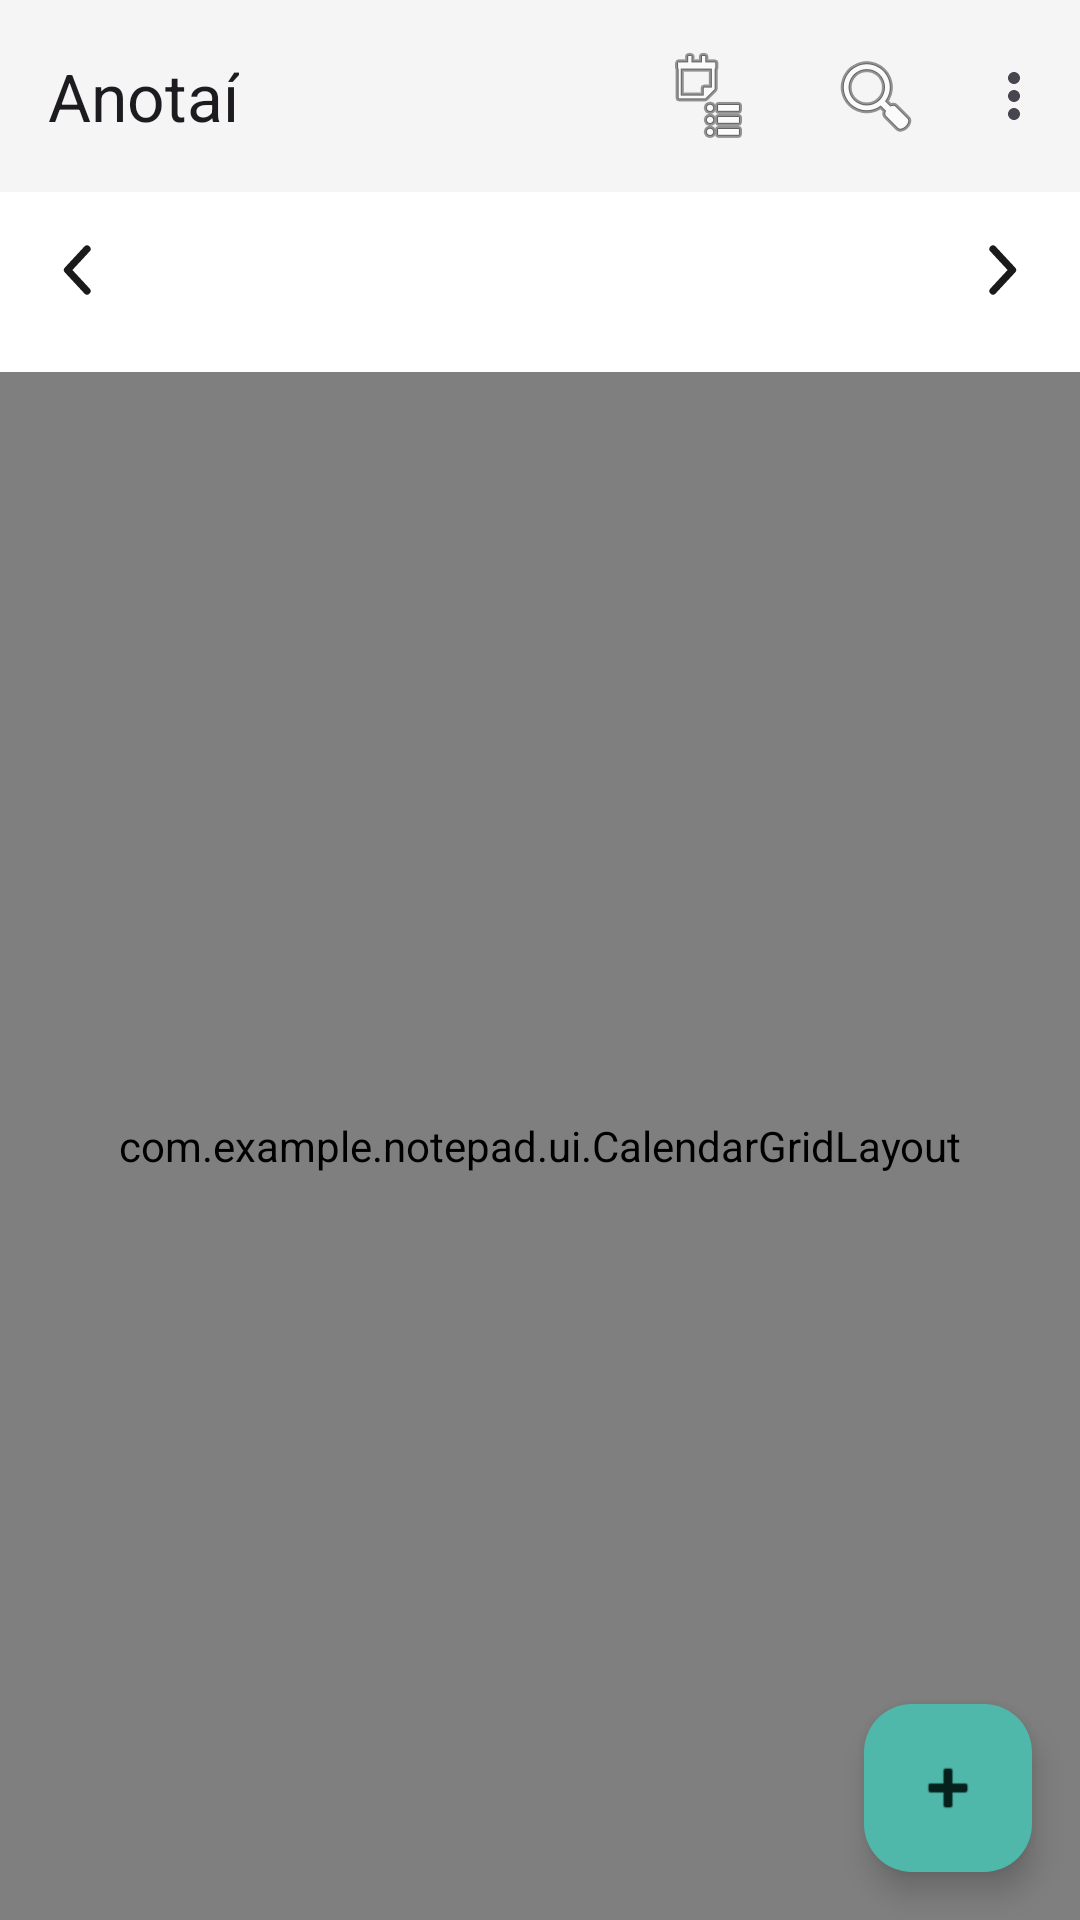

Icons on this 1080 x 1920 Android screen, each with its box as [x1,y1,x2,y2]:
Add note: [864,1704,1032,1872]
Next month: [989,245,1017,295]
Previous month: [63,245,91,295]
